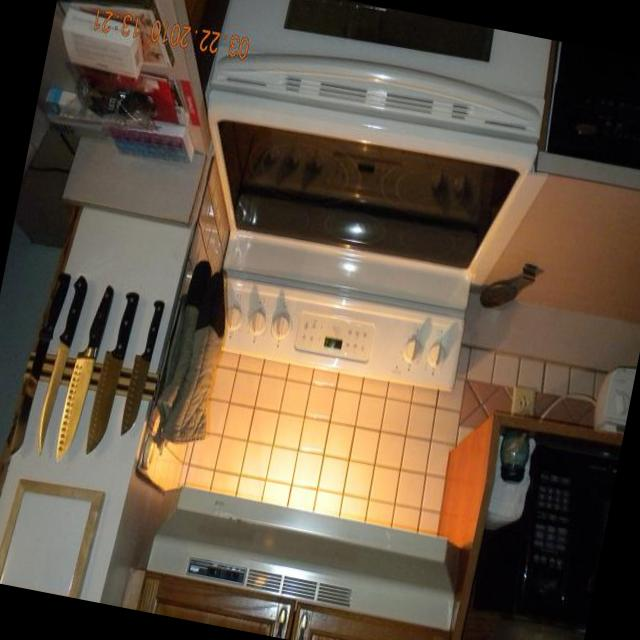book: (47, 0, 184, 70), (66, 56, 187, 123), (101, 110, 198, 166)
knife: (8, 268, 71, 460), (54, 279, 114, 465), (33, 270, 89, 458), (81, 284, 140, 462), (118, 295, 165, 438)
microwave: (468, 426, 621, 639)
oven: (158, 0, 557, 403)
